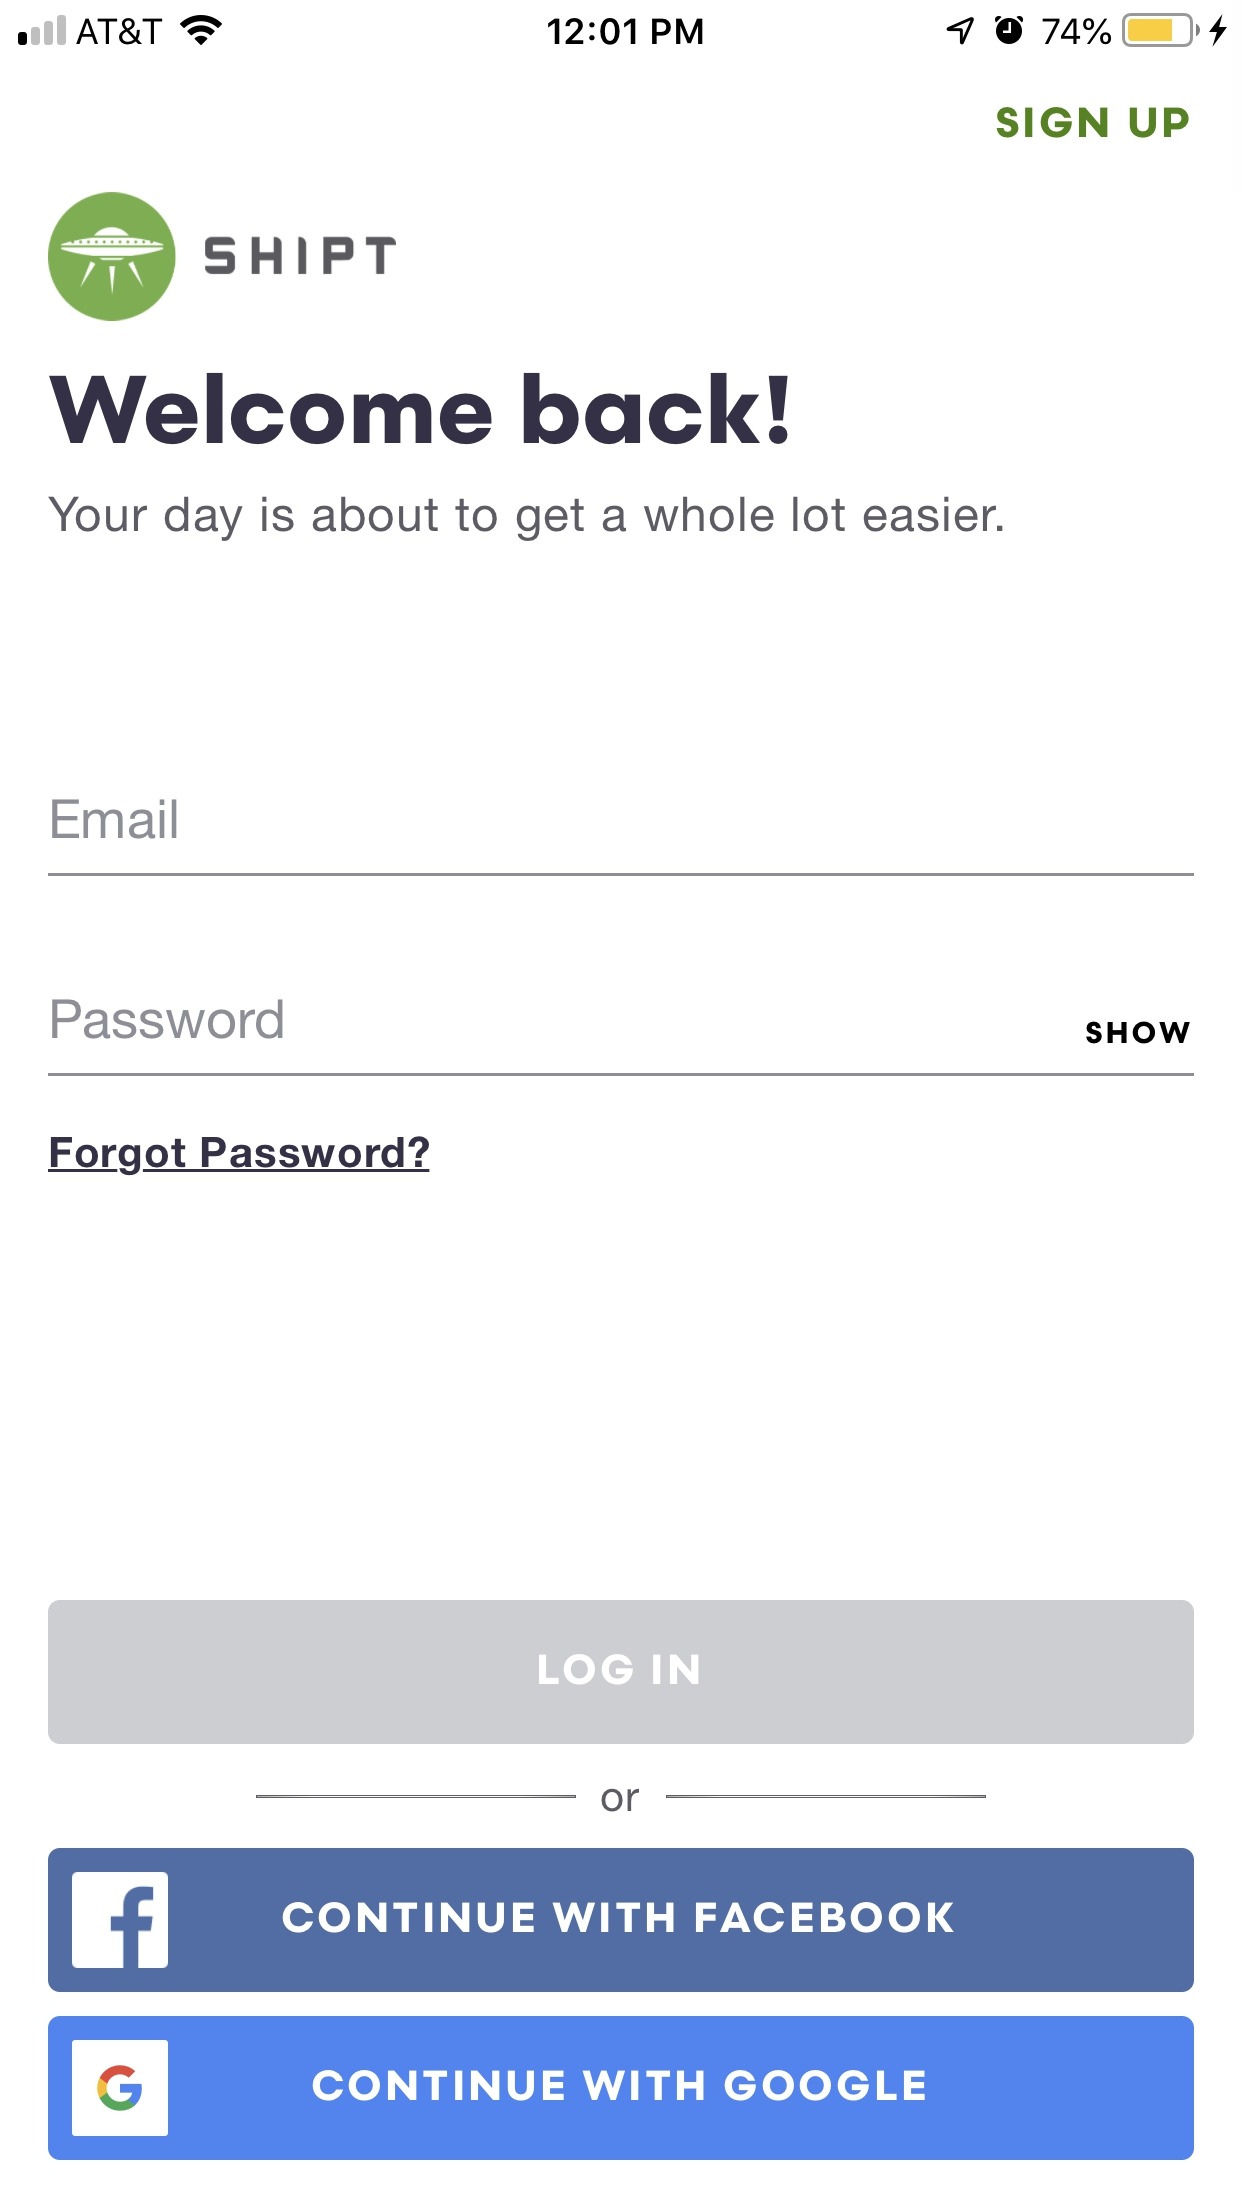EditText: (49, 798, 1195, 877), (49, 999, 1195, 1078)
Image: (49, 193, 177, 323)
Text: (49, 372, 789, 446), (49, 496, 1004, 543), (49, 1136, 431, 1177), (52, 999, 284, 1040), (205, 237, 397, 276), (996, 108, 1190, 140), (52, 798, 179, 840), (1084, 1021, 1190, 1045), (602, 1788, 640, 1812)
TextButton: (49, 2015, 1195, 2161), (49, 1598, 1195, 1744), (49, 1849, 1195, 1993)
UpperTaskBar: (2, 2, 1242, 49)
